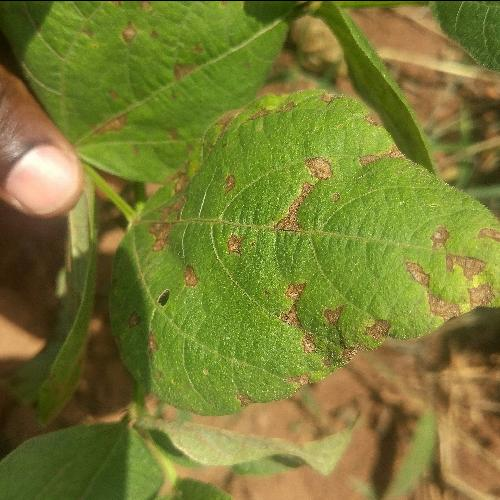hawar: (128, 166, 491, 397)
